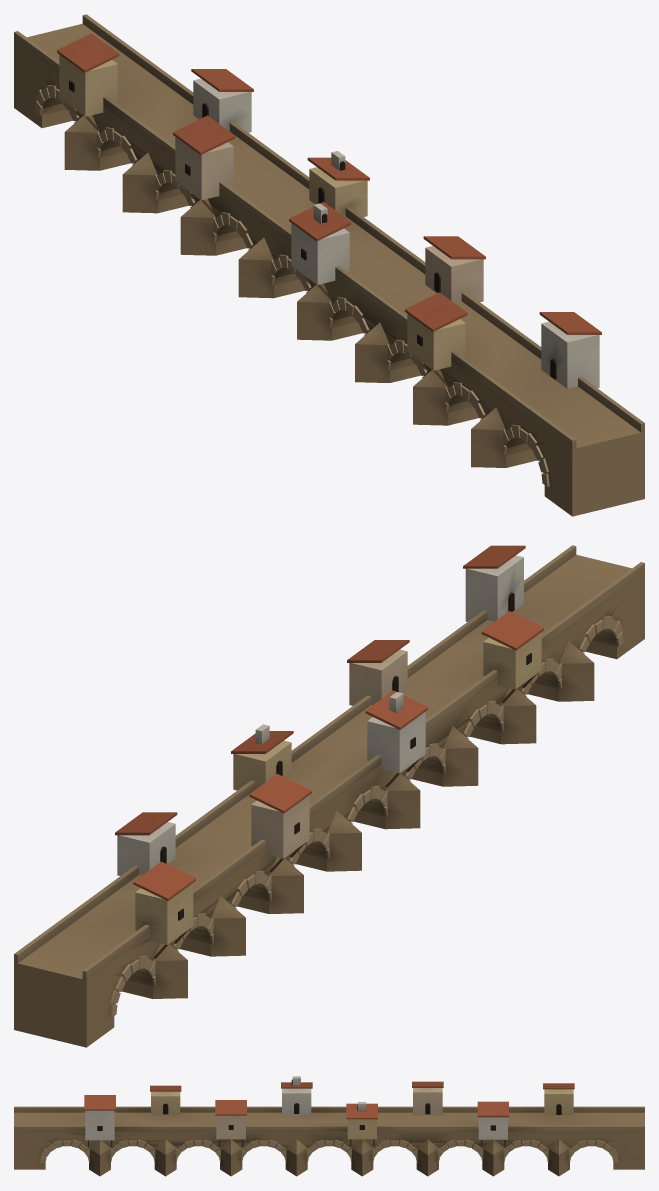
Rendered from ponte-alle-grazie.glb.
3 views of the same model, one above another, from view 1: azimuth 30°, elevation 25°; view 2: azimuth 150°, elevation 25°; view 3: azimuth 270°, elevation 25° (orthographic). The views are drawn at different scales.
Visible parts, largest first — view 1: p0_bridge, p1_houses; view 2: p0_bridge, p1_houses; view 3: p0_bridge, p1_houses.
Boxes of the visible parts, <box> form: p0_bridge: <box>14,14,644,516</box>; p1_houses: <box>57,33,601,388</box>; p0_bridge: <box>14,545,644,1047</box>; p1_houses: <box>115,545,543,958</box>; p0_bridge: <box>14,1106,644,1176</box>; p1_houses: <box>84,1076,574,1146</box>.
Bounding box in the file's own units: 15.3 × 15.07 × 120.
